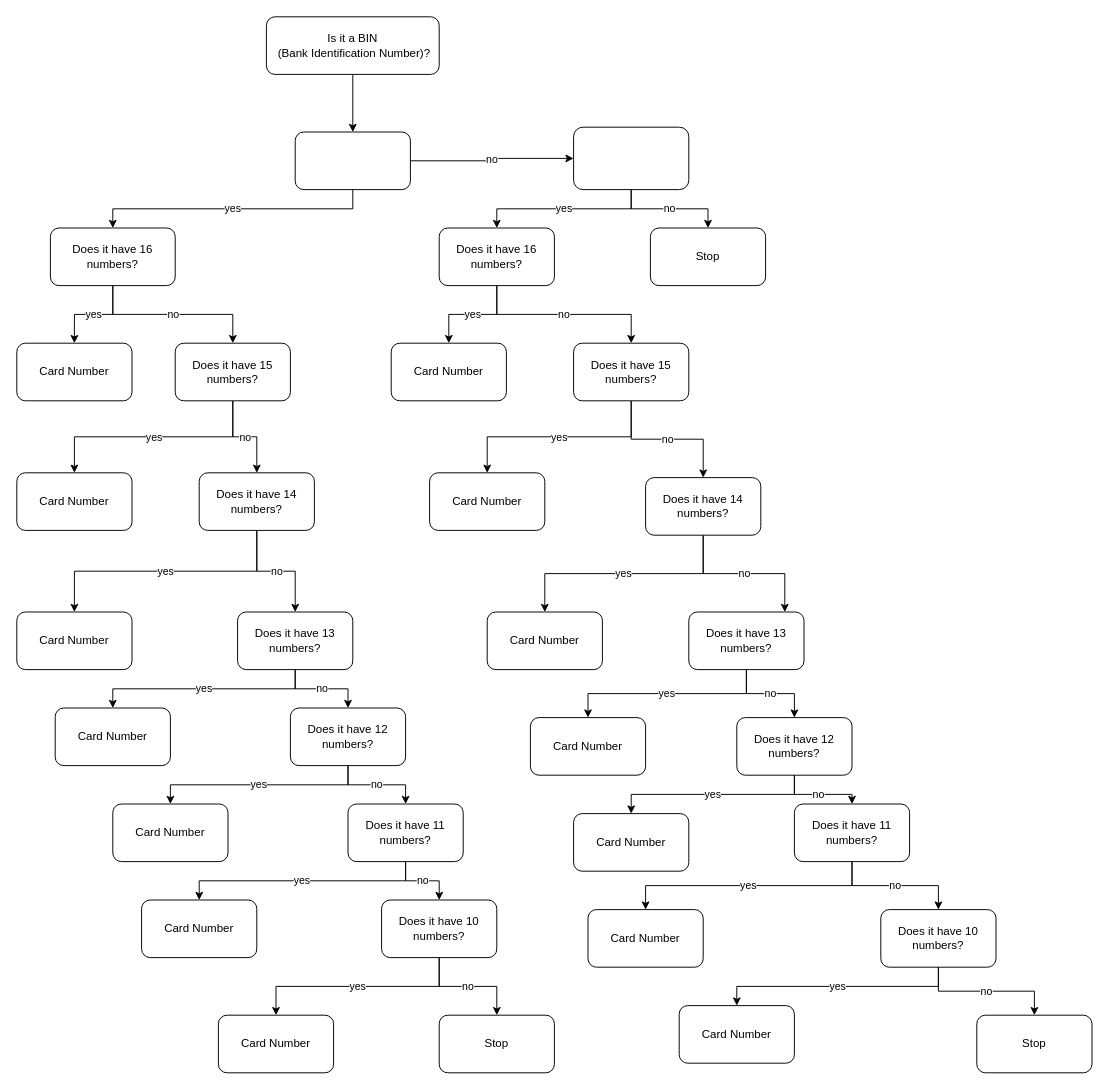
Some shapes in this 1109 by 1090 pixel diagram are drawn without their labels. The shapes that lost their labels are listed below. From the top down, each one's box as (x1, y1, x2, y2) in pixels, then its label:
(294, 131, 410, 190): Does it start with a 5?
(573, 126, 689, 190): Does it start with a 4?
